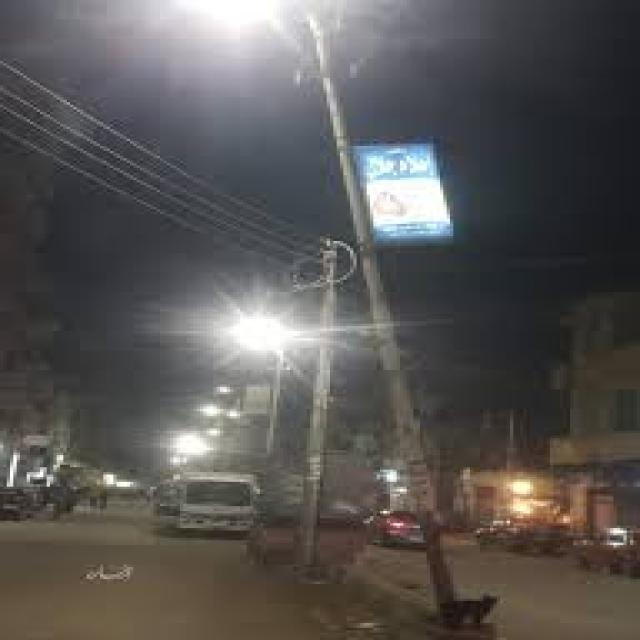Street Light: (227, 309, 330, 560)
